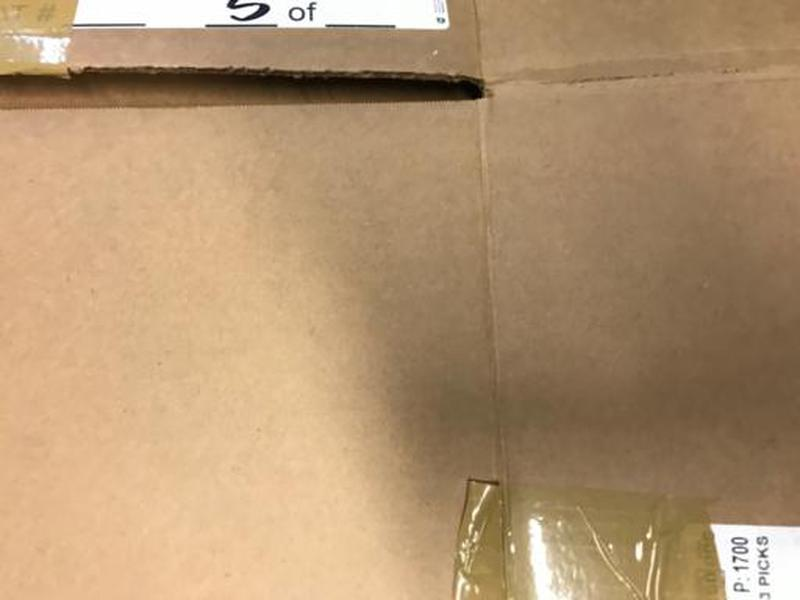cardboard: (1, 1, 800, 600)
